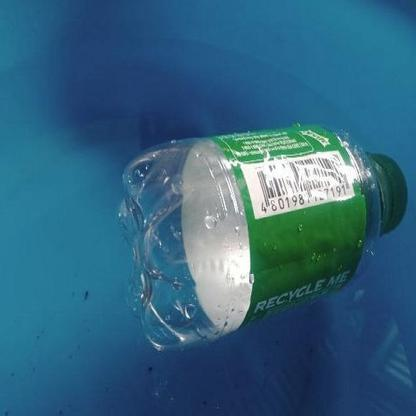plastic bottle: (118, 125, 408, 349)
